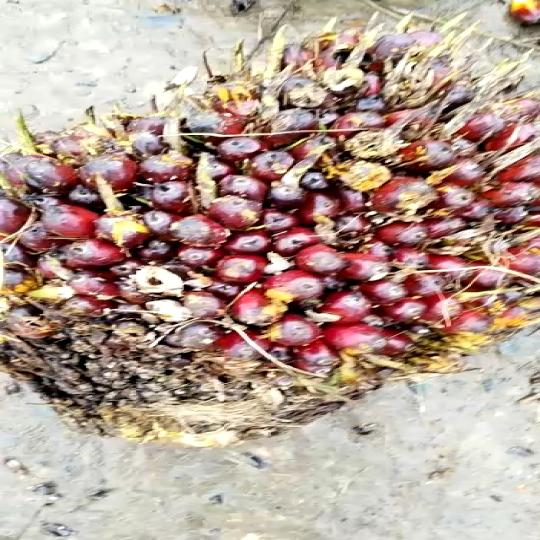kurang masak: (0, 18, 540, 450)
